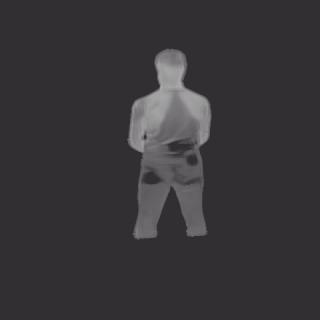Gun: (166, 141, 199, 167)
